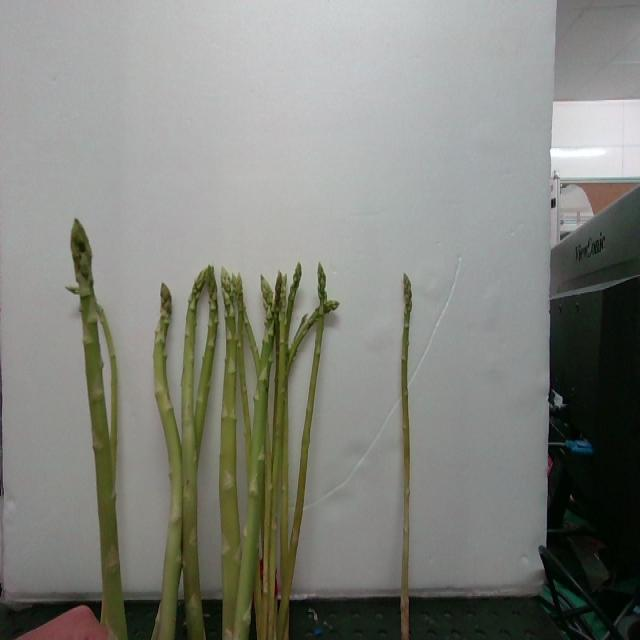aspargus: (68, 221, 130, 640), (152, 284, 185, 640), (397, 274, 416, 640)
